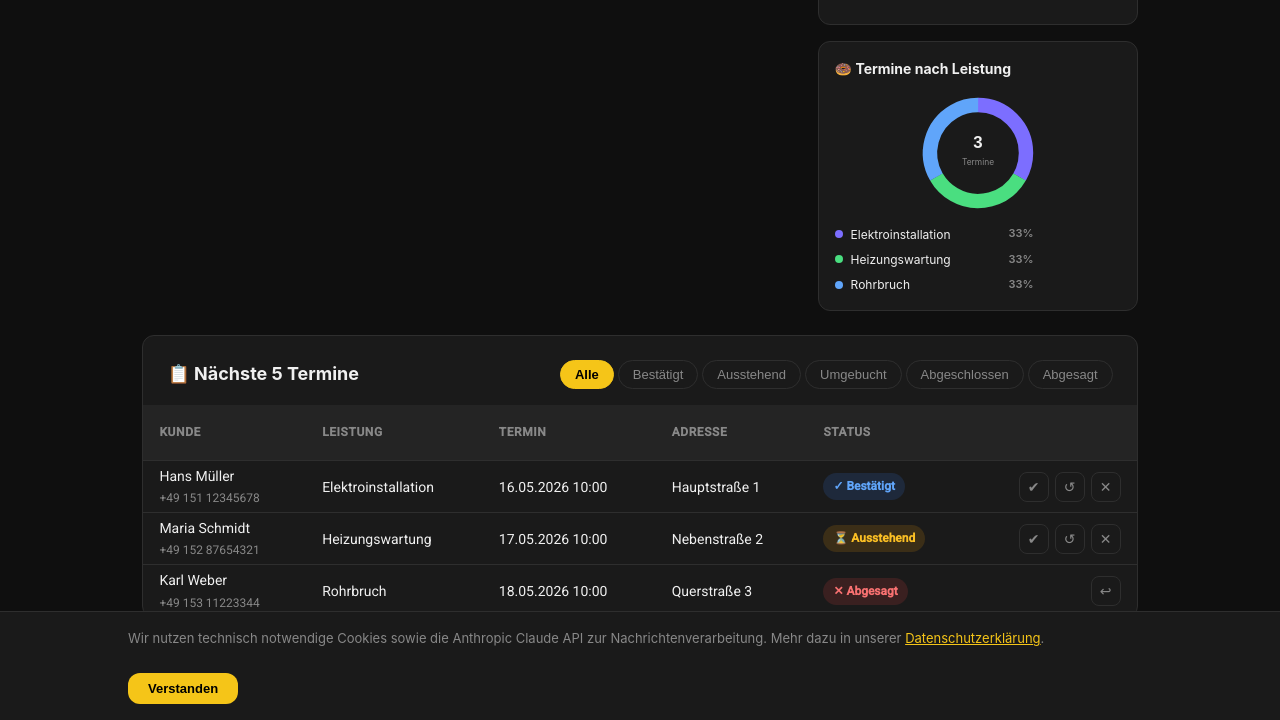
it: Dashboard – Statistiken und Filter › filtert auf abgesagte Termine
(page scrolled)
Click the button with test id "filter-cancelled" at (1071, 375), box [1028, 360, 1113, 389]
(page scrolled)
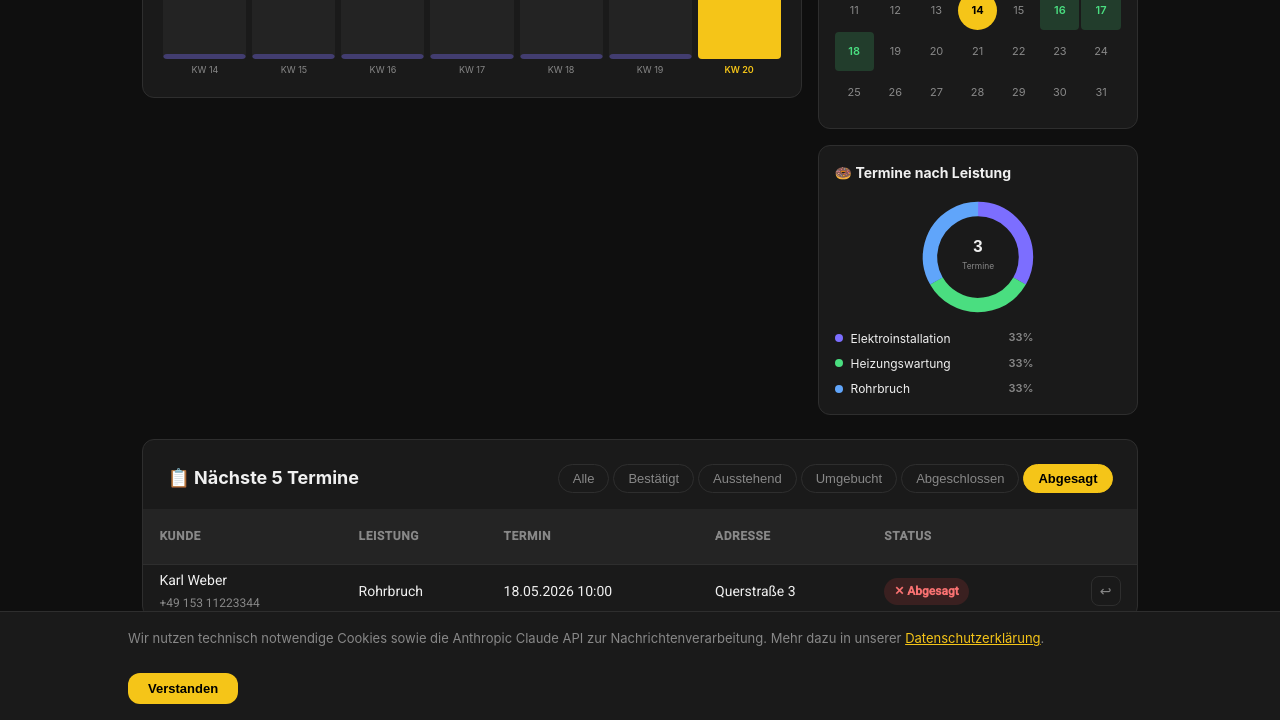
Expected: the element with test id "appointments-table" shows "Karl Weber", [143, 509, 1136, 617]
Expected: the text with test id "appointments-table" no longer shows "Hans Müller"
